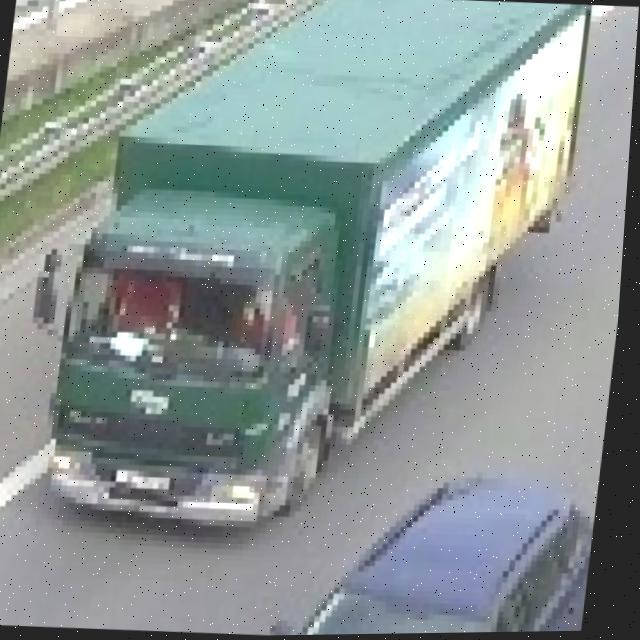truck: (21, 0, 599, 545)
